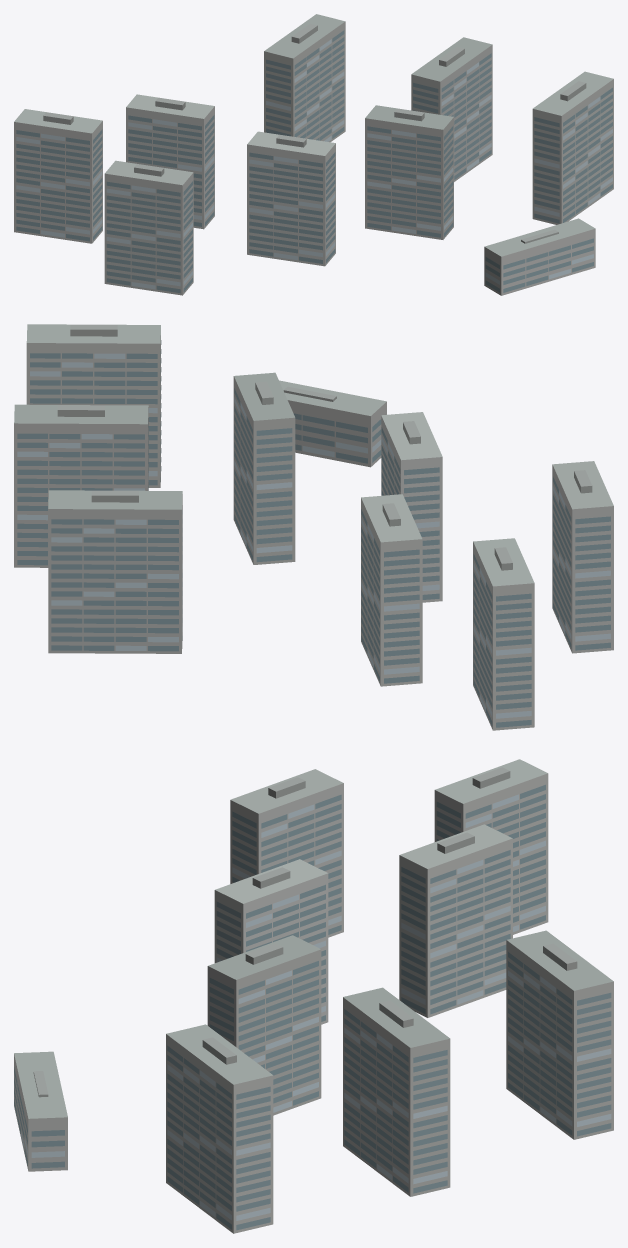
File: apt-a10027227.glb
The picture shows the model from 3 angles, top to bottom: view 1: azimuth 30°, elevation 25°; view 2: azimuth 150°, elevation 25°; view 3: azimuth 270°, elevation 25°; orthographic projection. The views are drawn at different scales.
Parts seen in each view (by area): view 1: apt-a10027227; view 2: apt-a10027227; view 3: apt-a10027227.
Boxes of the visible parts, box(x1,y1,x2,y2) form: apt-a10027227: box(14, 14, 613, 295); apt-a10027227: box(14, 324, 613, 730); apt-a10027227: box(14, 759, 613, 1233).
Size of the model in its own units: 201 by 45 by 157.
